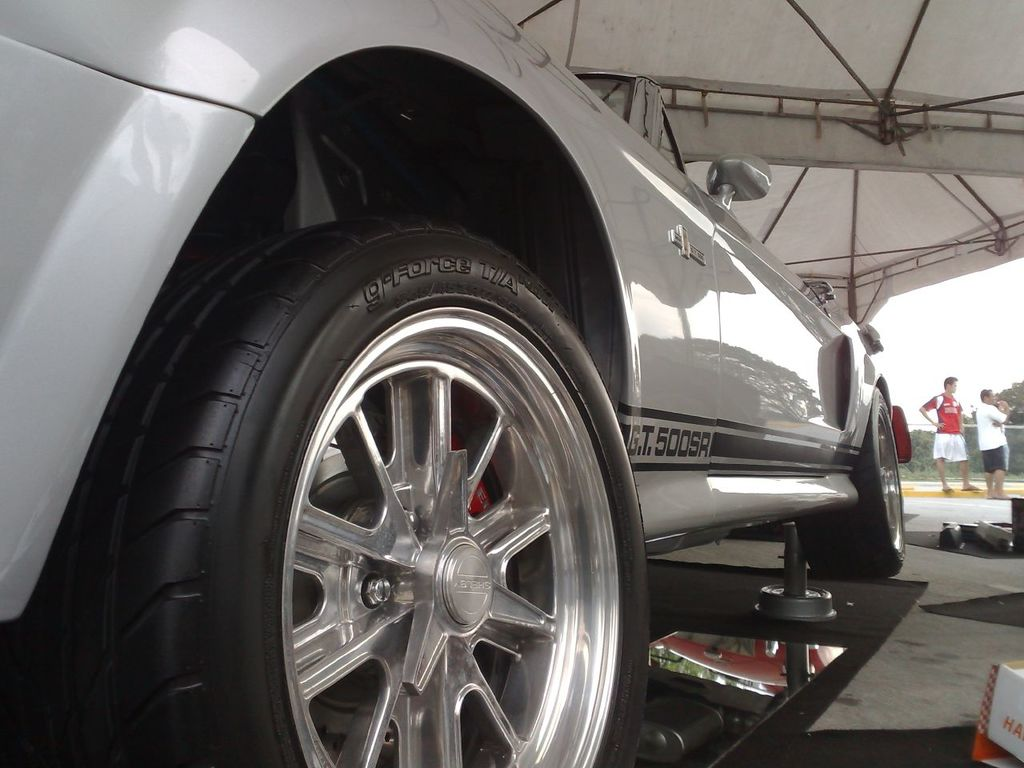Car: (0, 0, 912, 767)
